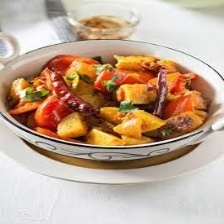sabzi: (4, 52, 210, 148)
